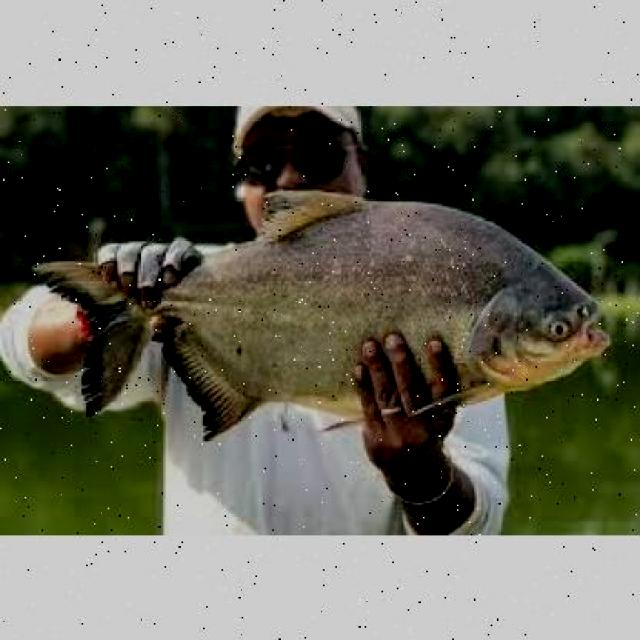ikan-pacu: (76, 200, 610, 425)
